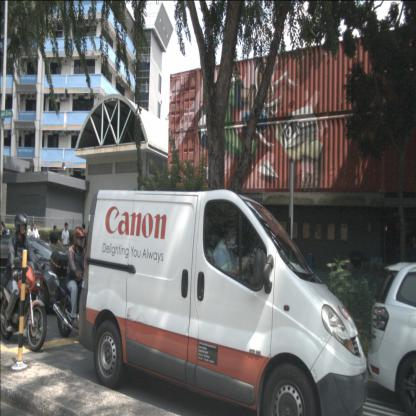human-pedestrian-adult: (49, 224, 63, 271), (26, 222, 36, 265), (31, 221, 40, 266), (62, 222, 70, 270), (0, 221, 8, 259)
vehicle-car: (78, 190, 368, 416), (367, 260, 415, 415), (0, 234, 79, 315)
vehicle-motorcycle: (0, 210, 47, 353), (49, 225, 100, 344)
